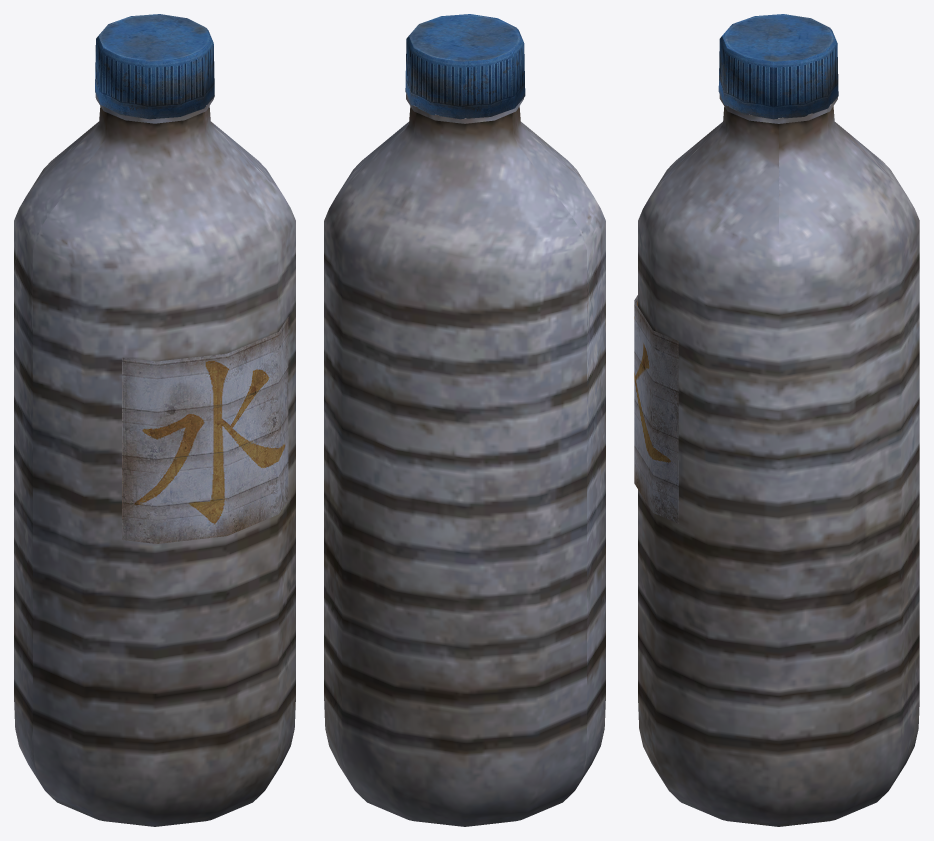
The model's file is water_bottle1.DAE.
The picture shows the model from 3 angles, left to right: view 1: azimuth 30°, elevation 25°; view 2: azimuth 150°, elevation 25°; view 3: azimuth 270°, elevation 25°; orthographic projection.
Parts seen in each view (by area): view 1: water_bottle, water_bottle_label_cap; view 2: water_bottle, water_bottle_label_cap; view 3: water_bottle, water_bottle_label_cap.
Boxes of the visible parts, x1,y1,x2,y2 form: water_bottle: (14,94,295,826); water_bottle_label_cap: (95,14,288,543); water_bottle: (324,93,605,826); water_bottle_label_cap: (405,14,525,119); water_bottle: (638,94,919,826); water_bottle_label_cap: (634,14,838,523).
Size of the model in its own units: 0.1205 by 0.3526 by 0.1222.
